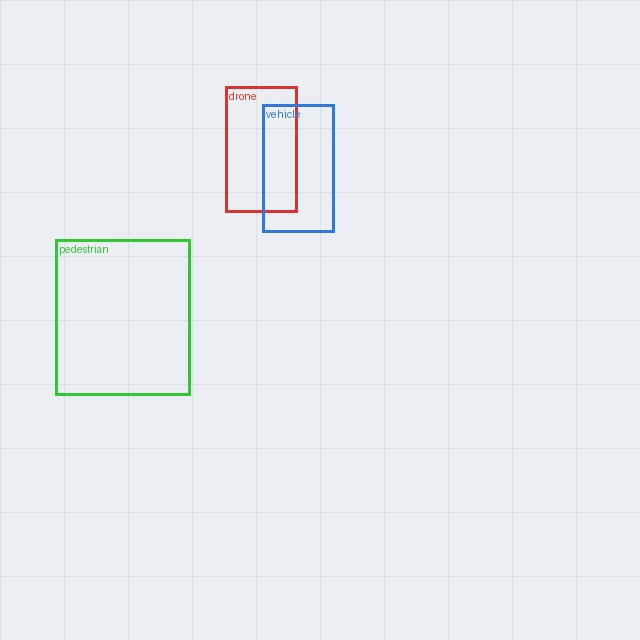drone: (225, 86, 297, 212)
pedestrian: (55, 239, 190, 395)
vehicle: (262, 104, 334, 232)
